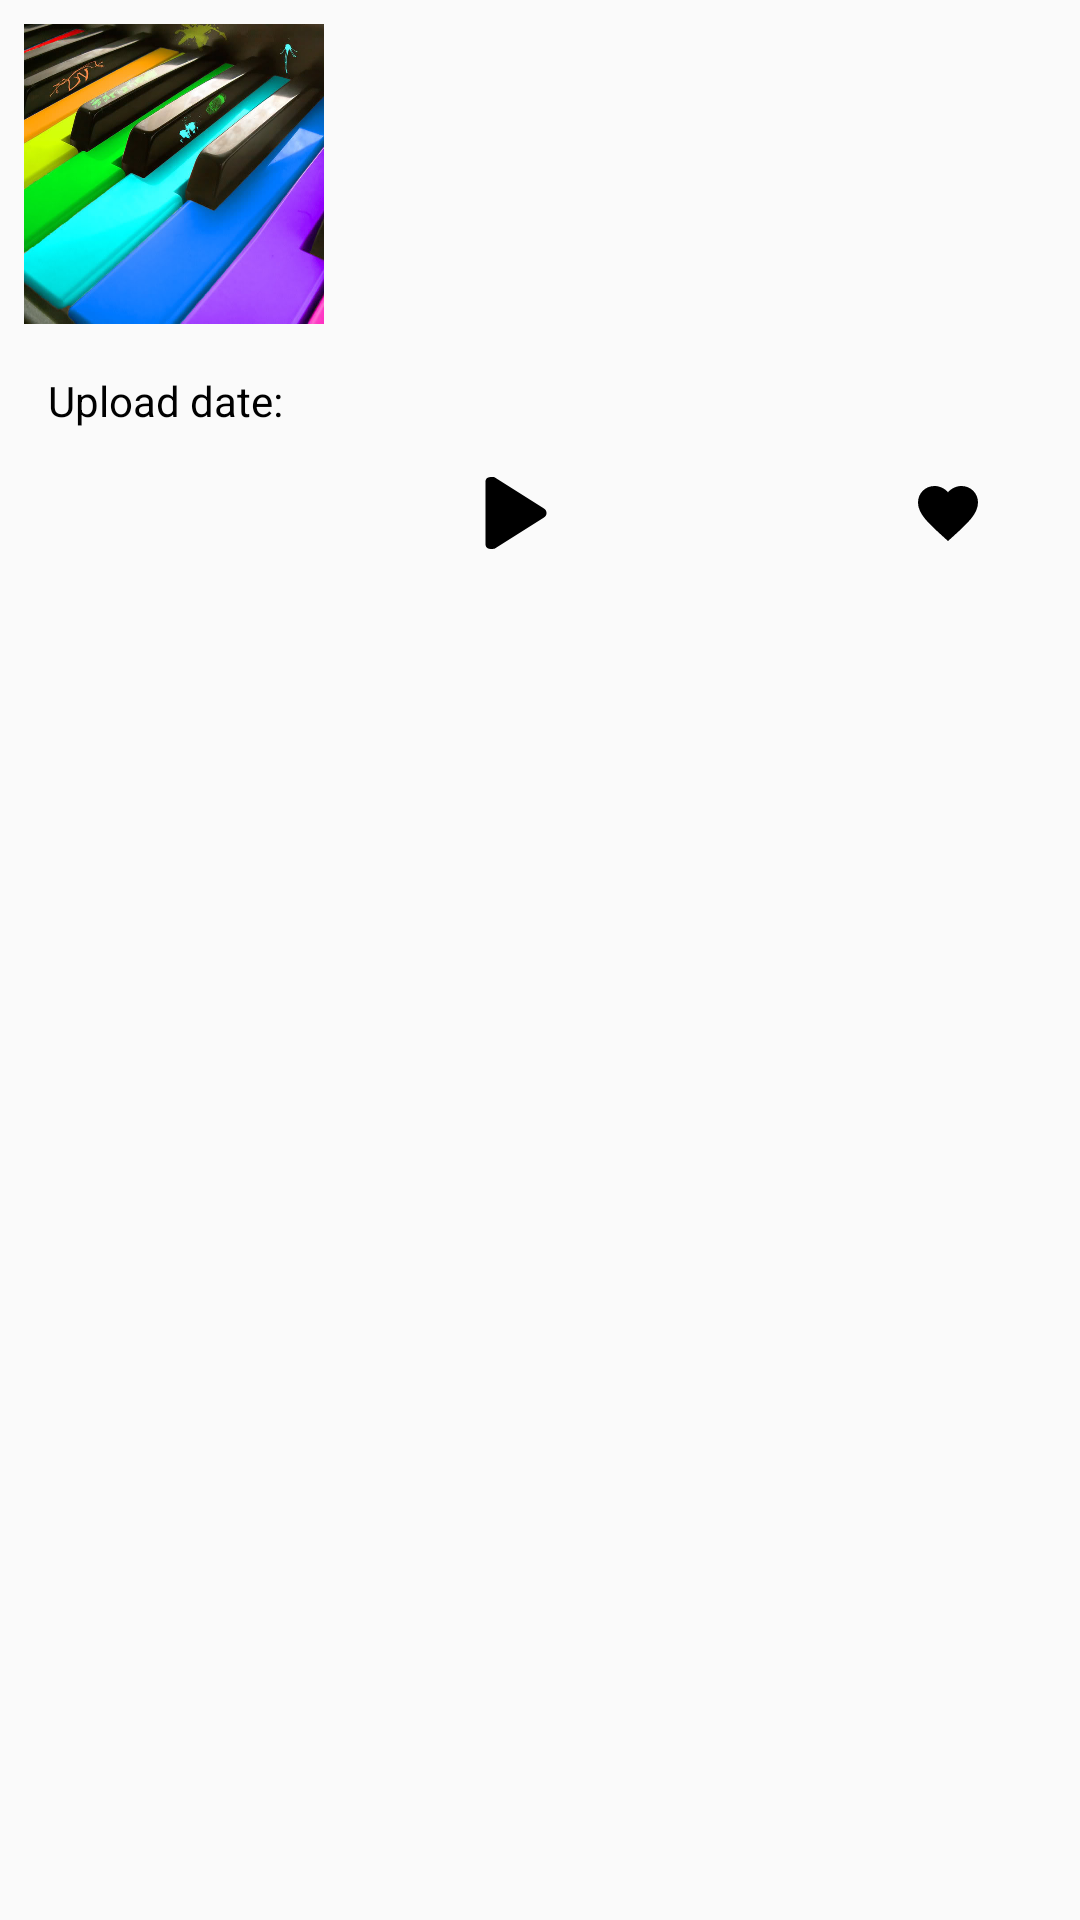

Locate icon controls on the screen. Image size 1080px x 1920px, boxes as (x1, y1, x2, y2).
favorited: (918, 486, 978, 541)
play: (485, 477, 547, 549)
